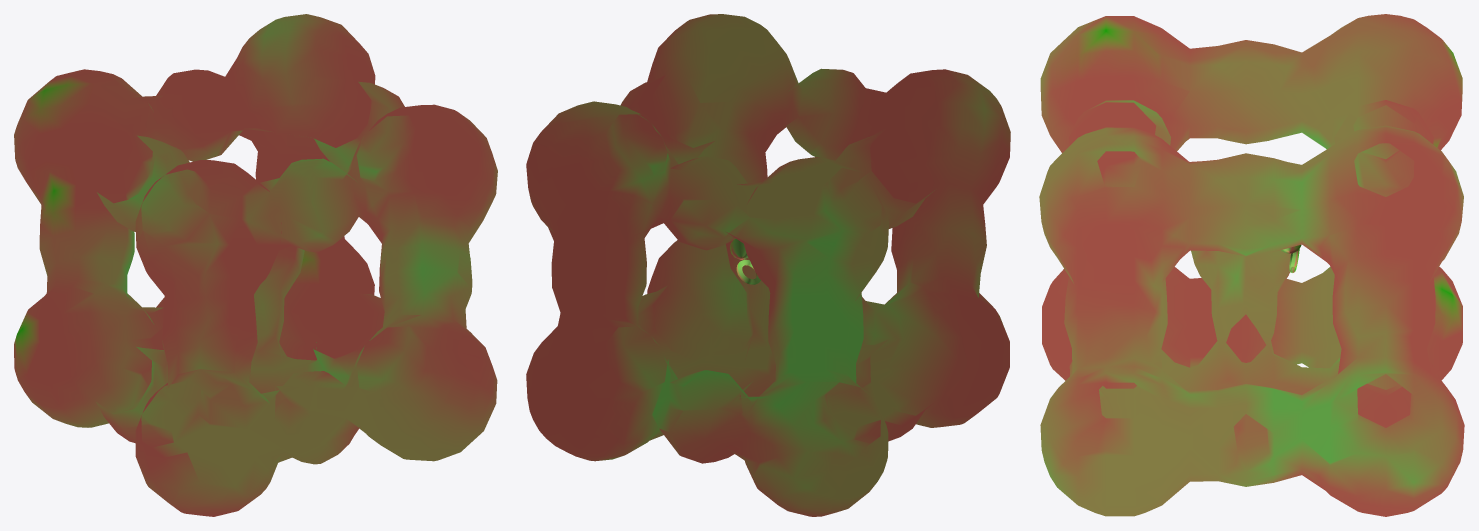
The model's file is bouncy.glb.
3 renders of one model, left to right at view 1: azimuth 30°, elevation 25°; view 2: azimuth 150°, elevation 25°; view 3: azimuth 270°, elevation 25°, orthographic. The views are drawn at different scales.
Parts seen in each view (by area): view 1: Bouncycastle; view 2: Bouncycastle; view 3: Bouncycastle.
Part boxes in pixels (left/top/right/bottom): Bouncycastle: left=14, top=14, right=497, bottom=516; Bouncycastle: left=526, top=14, right=1010, bottom=516; Bouncycastle: left=1039, top=14, right=1464, bottom=516.
Bounding box in the file's own units: 2.22 × 2.14 × 2.18.
